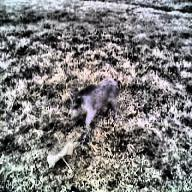boar: (69, 72, 138, 137)
